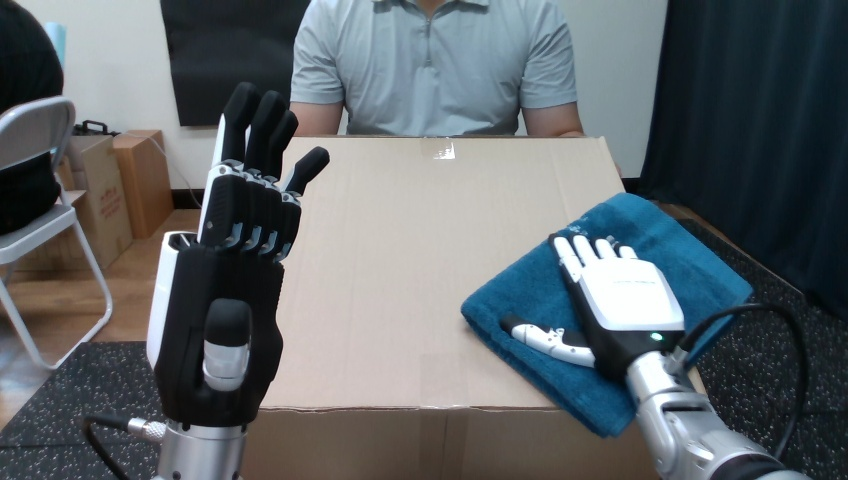left robot hand: (83, 82, 328, 479), (500, 234, 809, 479), (685, 309, 800, 455)
